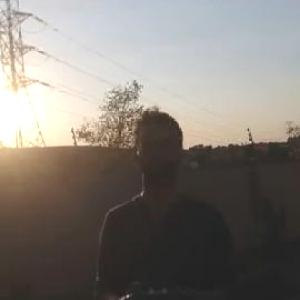follow: (89, 102, 233, 299)
